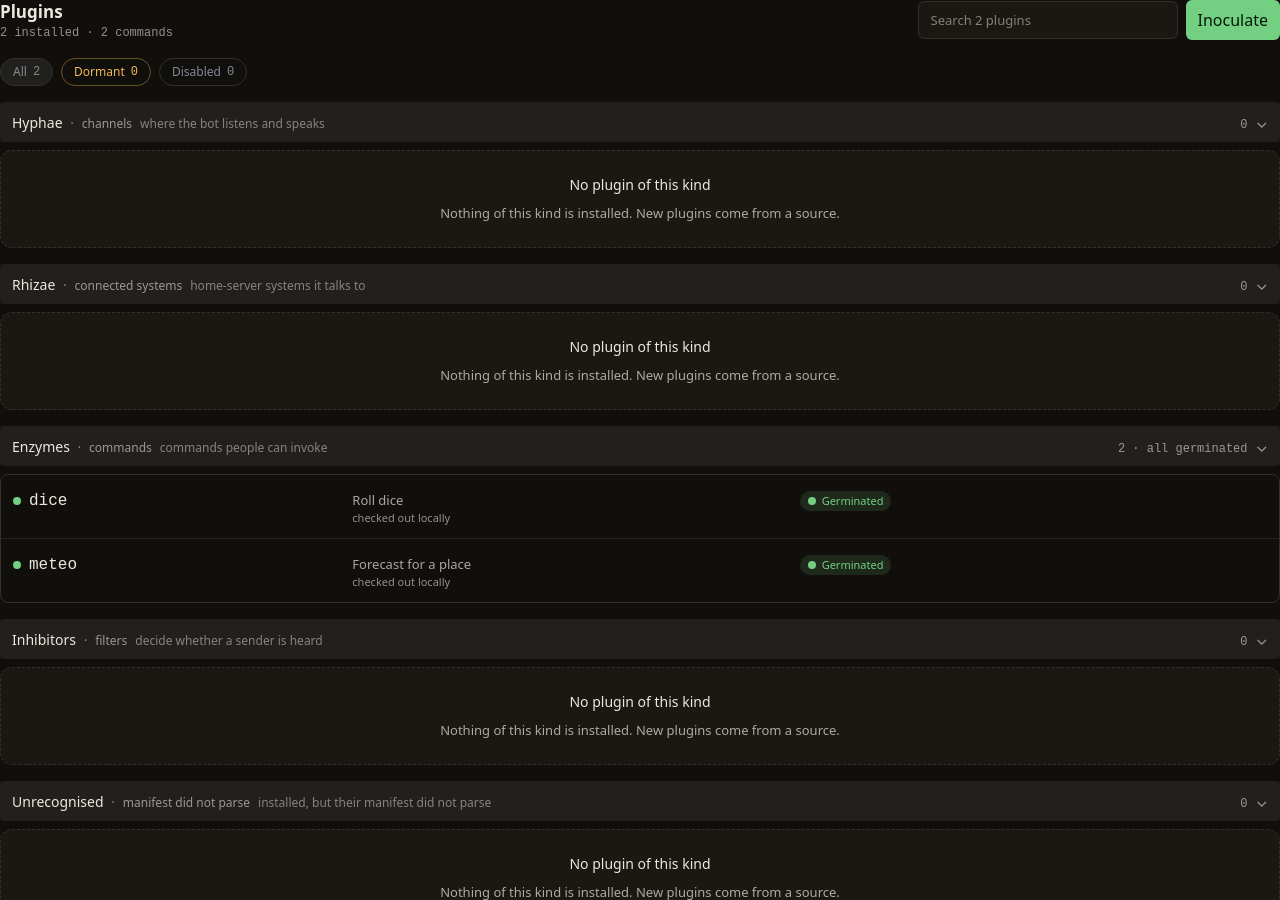
an empty list says which of its two causes emptied it › names the disabled state, not the dormant one, under the disabled filter
Expected: the link "meteo" is shown, [29,553,77,577]
Click the button "Disabled 0".
click(203, 72)  # box [159,58,247,86]
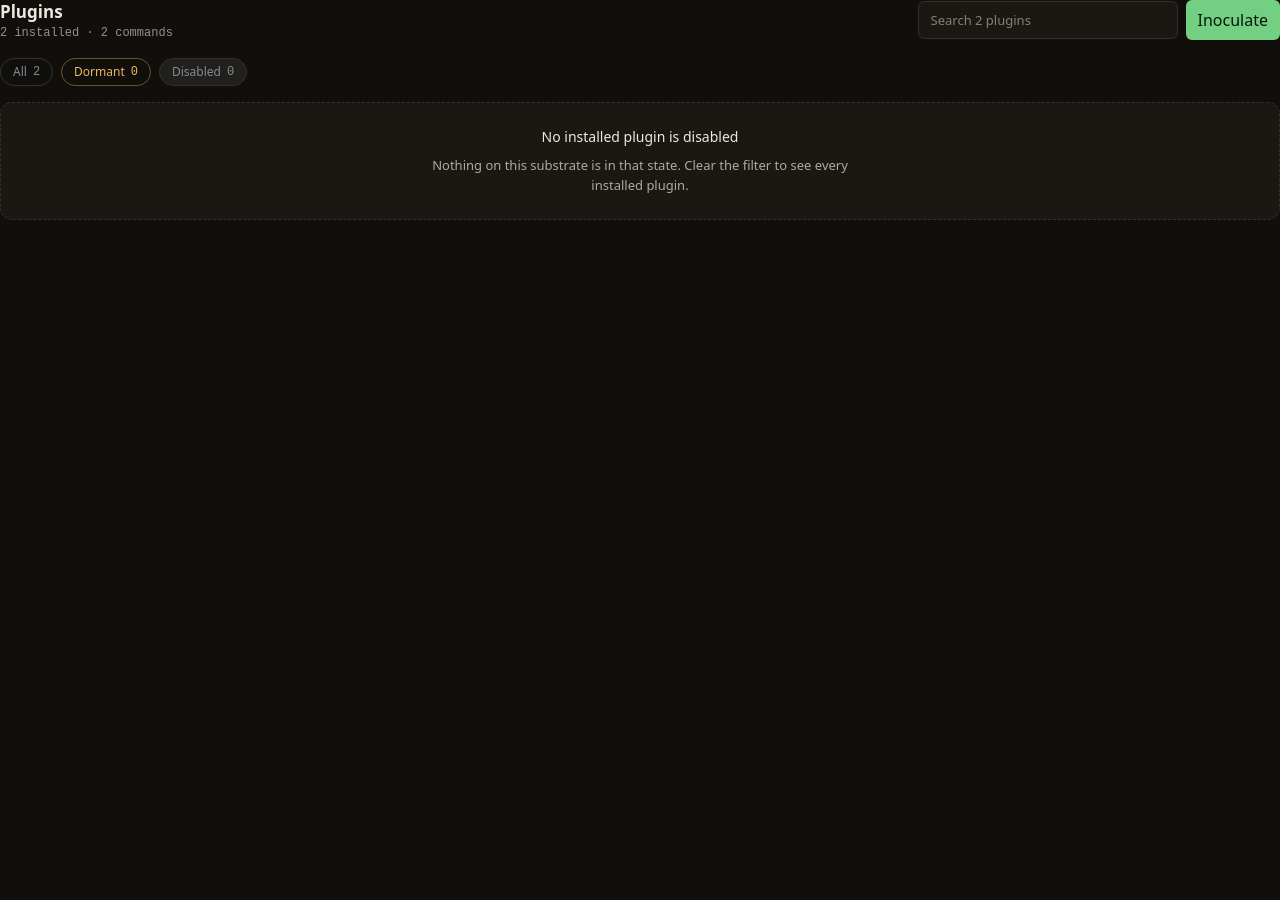
Expected: the text "No installed plugin is disabled" is shown, [542,127,738,146]
